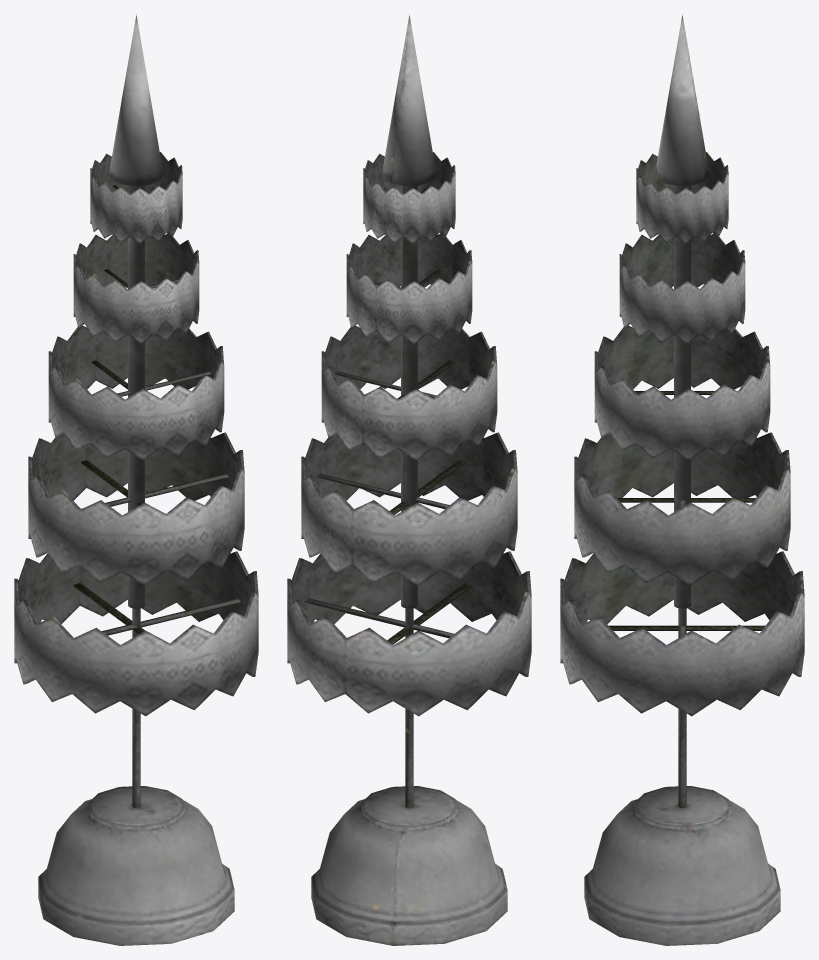
The model's file is cacritice01.FBX.
The picture shows the model from 3 angles, left to right: view 1: azimuth 30°, elevation 25°; view 2: azimuth 150°, elevation 25°; view 3: azimuth 270°, elevation 25°; orthographic projection.
Visible parts, largest first — view 1: SM_Cacritice01; view 2: SM_Cacritice01; view 3: SM_Cacritice01.
Part boxes in pixels (<box>): SM_Cacritice01: <box>14,14,258,945</box>; SM_Cacritice01: <box>287,14,531,945</box>; SM_Cacritice01: <box>560,14,804,945</box>.
Size of the model in its own units: 15.87 by 63.93 by 15.91.
Materials: 1 (1 with a texture image).
